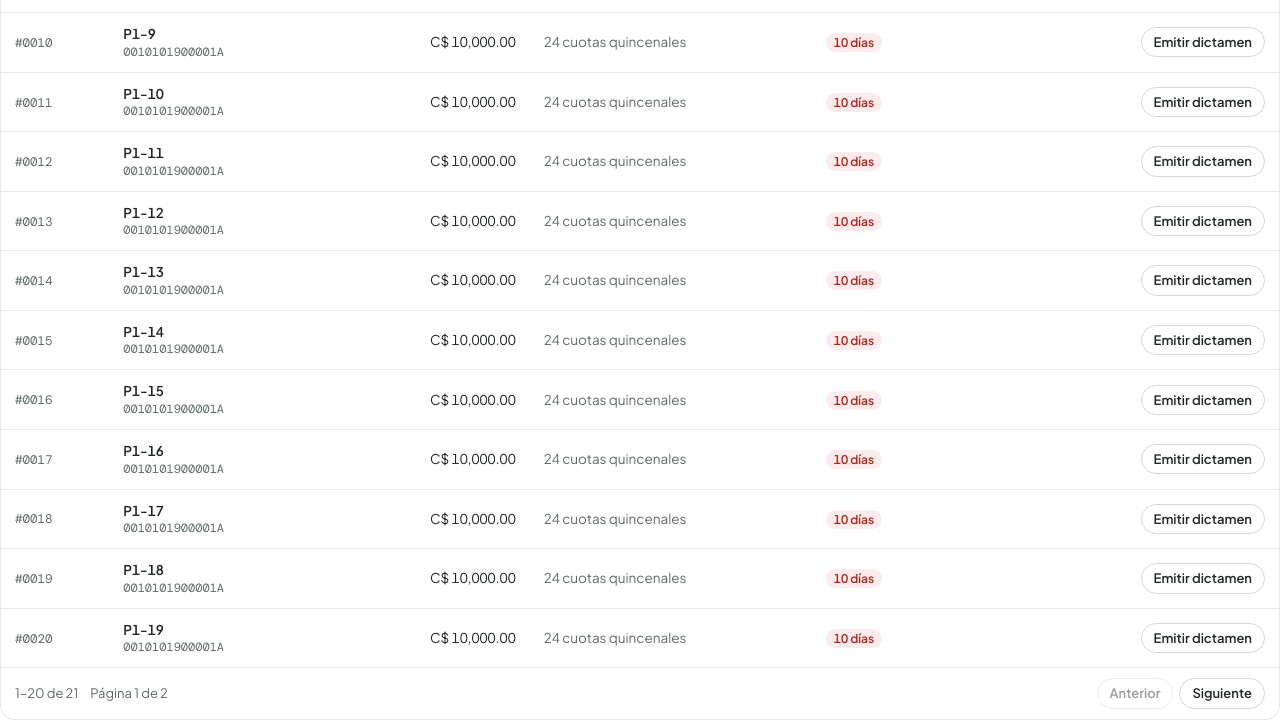
Scenario: BandejaPage del comité › en la página 2 el subtítulo sigue nombrando la más antigua de toda la bandeja
(page scrolled)
Click the button "Siguiente". click: (1222, 693)
box: [1179,678,1265,709]
(page scrolled)
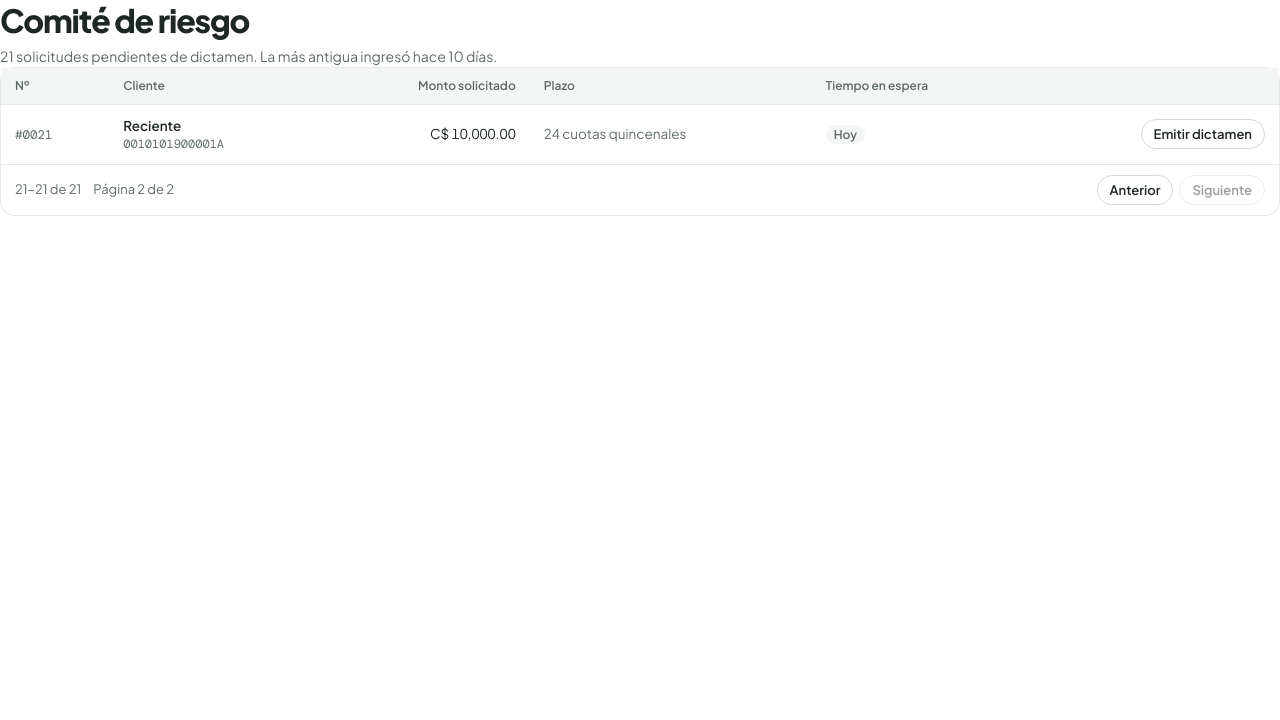
Expected: the text "21 solicitudes pendientes de dictamen. La más antigua ingresó hace 10 días" is shown, [0,47,497,65]
Expected: the link "Reciente" is shown, [123,117,181,134]
